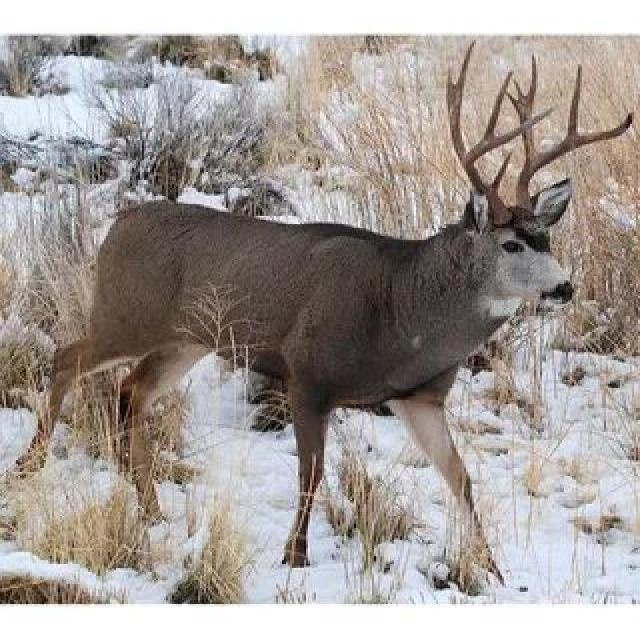deer: (45, 85, 585, 560)
